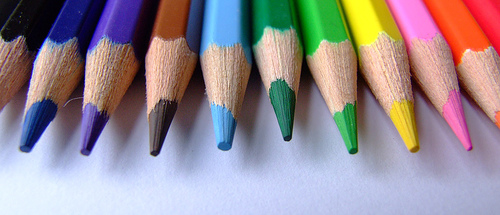pen_tip: (252, 14, 311, 159), (302, 19, 363, 159), (16, 36, 82, 163), (74, 36, 137, 168), (140, 34, 195, 168), (199, 25, 252, 162)
